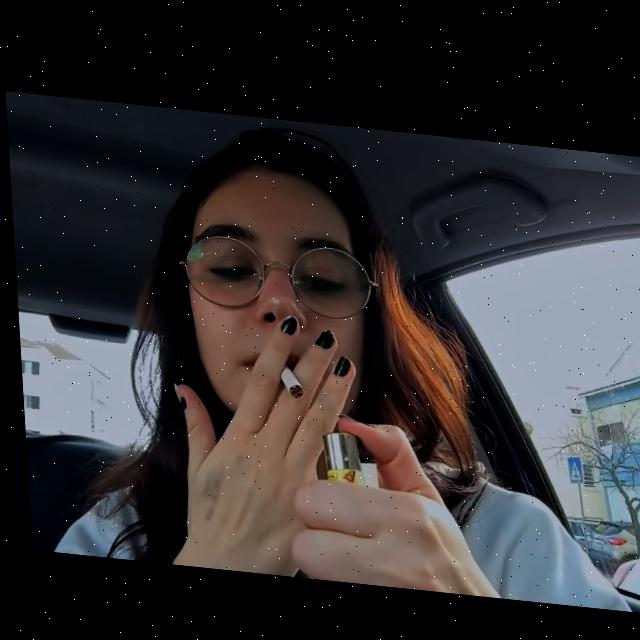cigarette: (276, 358, 301, 394)
